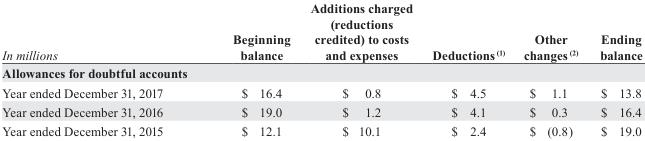table: (1, 0, 641, 138)
table column: (1, 0, 197, 138), (299, 0, 421, 138), (197, 0, 299, 138), (421, 0, 513, 138), (513, 0, 588, 138), (588, 0, 641, 138)
table column header: (1, 0, 641, 63)
table projected row header: (1, 63, 641, 82)
table row: (1, 0, 641, 63), (1, 101, 641, 121), (1, 63, 641, 82), (1, 82, 641, 101), (1, 121, 641, 138)
